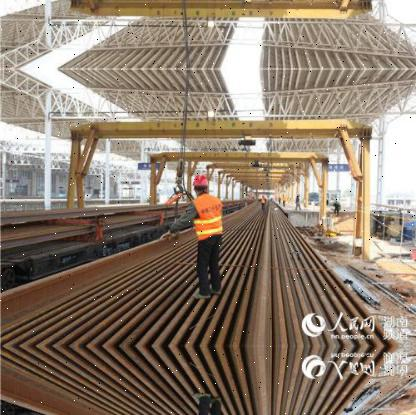helmet: (189, 172, 209, 196)
